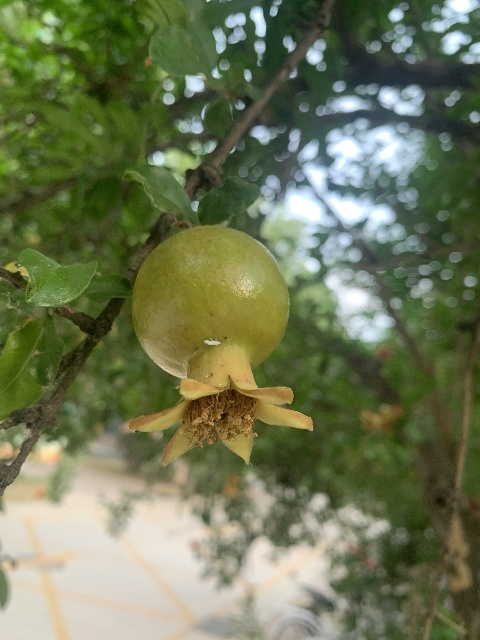mid-growth: (122, 222, 313, 469)
